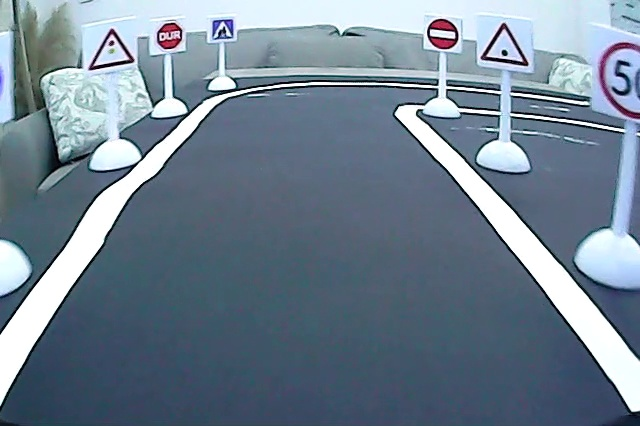do not enter: (425, 16, 460, 50)
green light: (476, 18, 533, 70)
red light: (85, 24, 135, 74)
school crossing: (210, 18, 235, 41)
stop sign: (154, 18, 186, 53)
